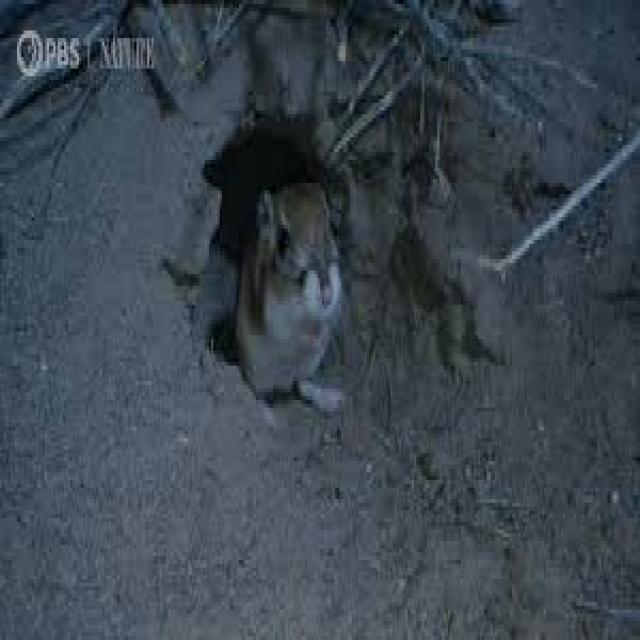Rat: (201, 149, 401, 399)
